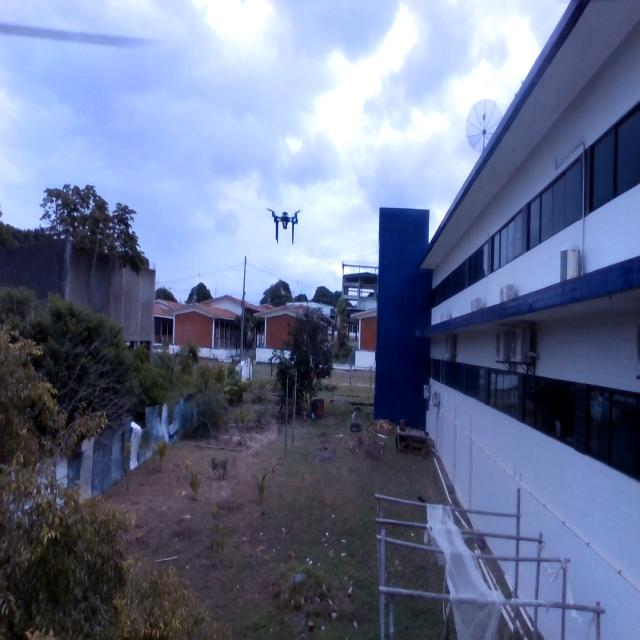-uav-: (261, 197, 307, 253)
